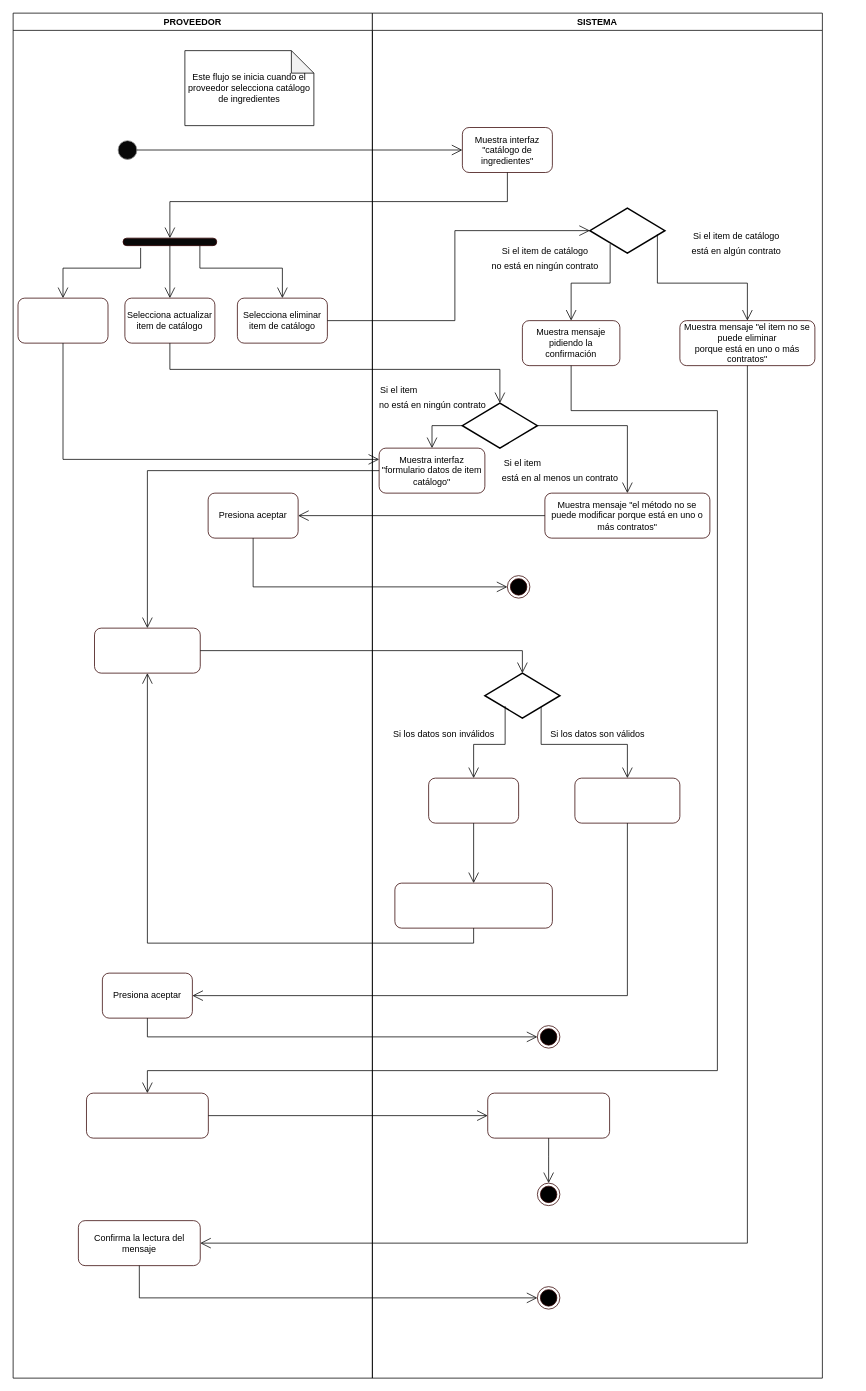
Some shapes in this 866 by 1391 pixel diagram are drawn without their labels. The centre of each missing label's shape, as x and y in pixels:
Confirma la realización de la acción: point 147,1115
Elimina el item respectivo: point 548,1115
Ingresa datos: point 147,650
Muestra mensaje "datos inválidos": point 473,800
Muestra mensaje "operación realizada con éxito": point 627,800
Resalta los datos inválidos y muestra el formato adecuado: point 473,905
Selecciona agregar item a catalogo: point 62,320
